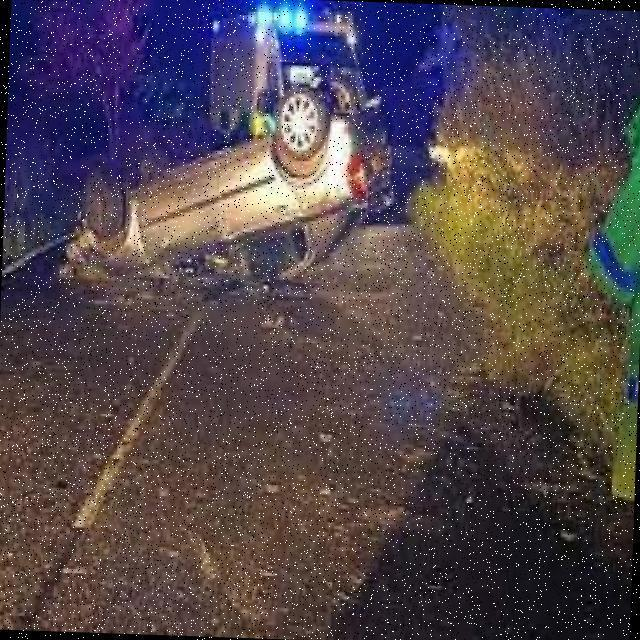accident: (62, 78, 395, 302)
